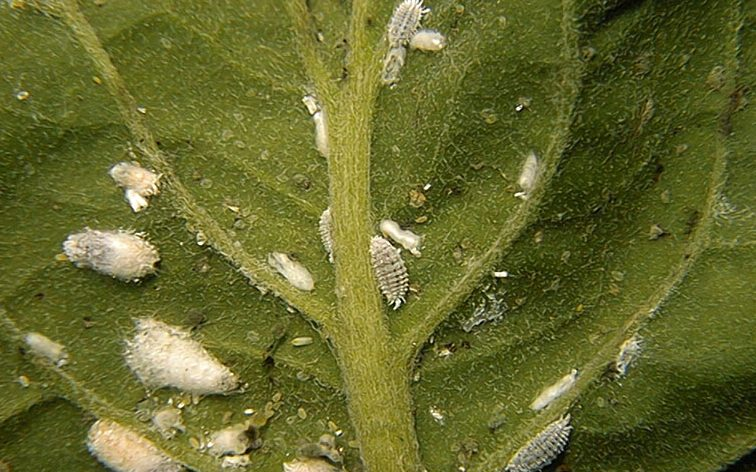mealybug: (60, 230, 179, 281), (380, 1, 433, 82), (363, 225, 410, 316), (511, 419, 572, 472), (108, 158, 163, 211), (316, 207, 338, 262)
